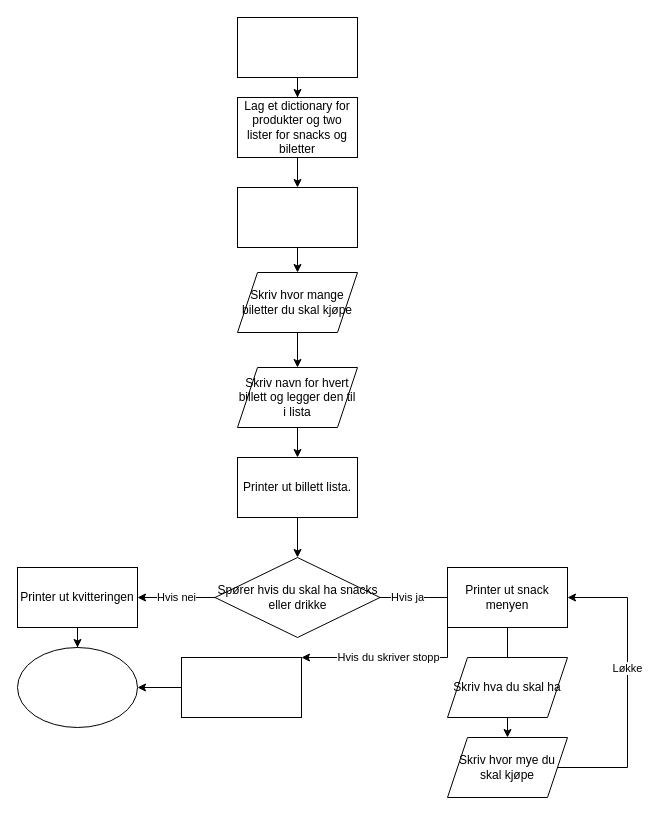
The diagram is 660 pixels wide and 815 high, and some of its shapes have lost their labels. Each missing label, with the centre of its shape:
"Printer ut kvittering" goes at point (241, 687).
"Slutt" goes at point (77, 687).
"Start" goes at point (297, 47).
"Velkomme og viser hvor mye koster et bilett" goes at point (297, 217).
